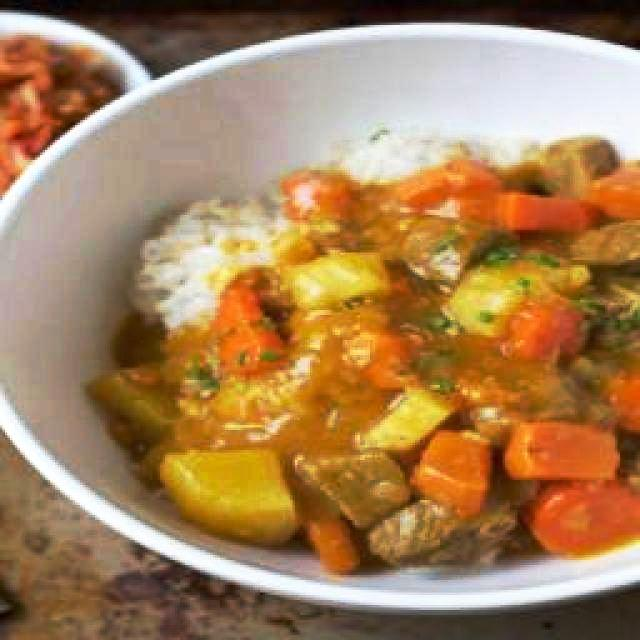curry: (366, 346, 640, 560), (114, 319, 366, 527), (230, 269, 640, 342), (303, 177, 640, 265)
rice: (132, 202, 278, 326), (339, 132, 439, 178)
